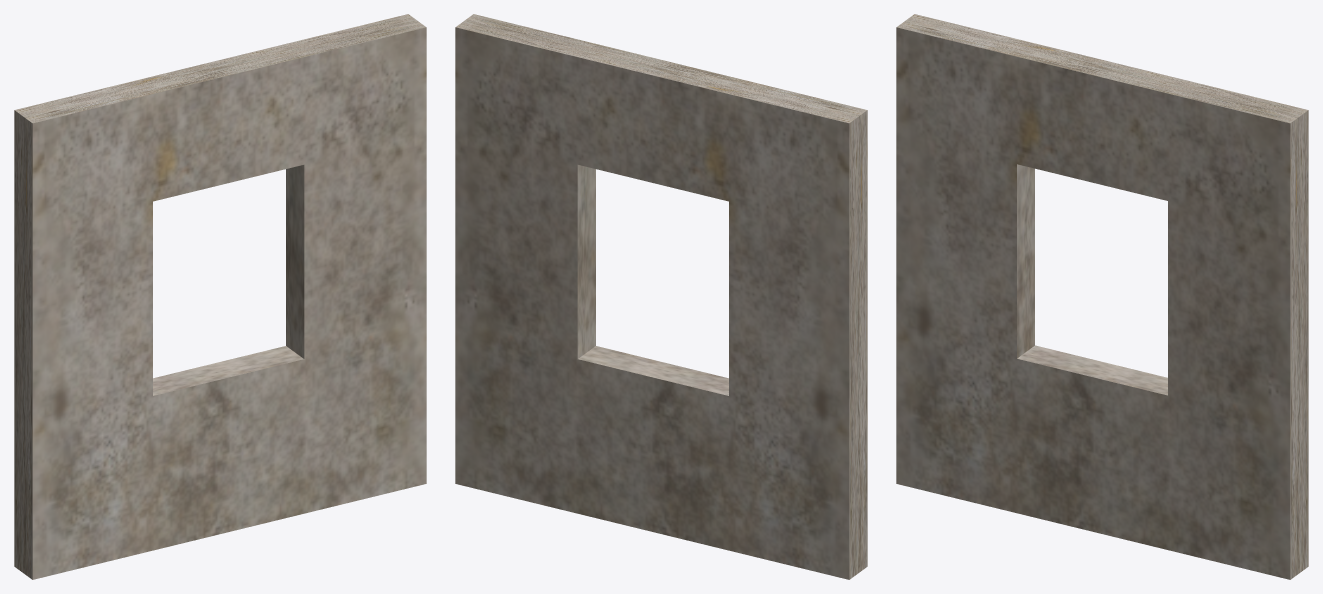
Rendered from WallWindow1.fbx.
3 views of the same model, side by side, from view 1: azimuth 30°, elevation 25°; view 2: azimuth 150°, elevation 25°; view 3: azimuth 330°, elevation 25° (orthographic).
Visible parts, largest first — view 1: WindowFrameWall.001; view 2: WindowFrameWall.001; view 3: WindowFrameWall.001.
Boxes of the visible parts, left/top/right/bottom form: WindowFrameWall.001: left=14, top=14, right=426, bottom=579; WindowFrameWall.001: left=455, top=14, right=867, bottom=579; WindowFrameWall.001: left=896, top=14, right=1308, bottom=579.
Size of the model in its own units: 250 by 277 by 20.
